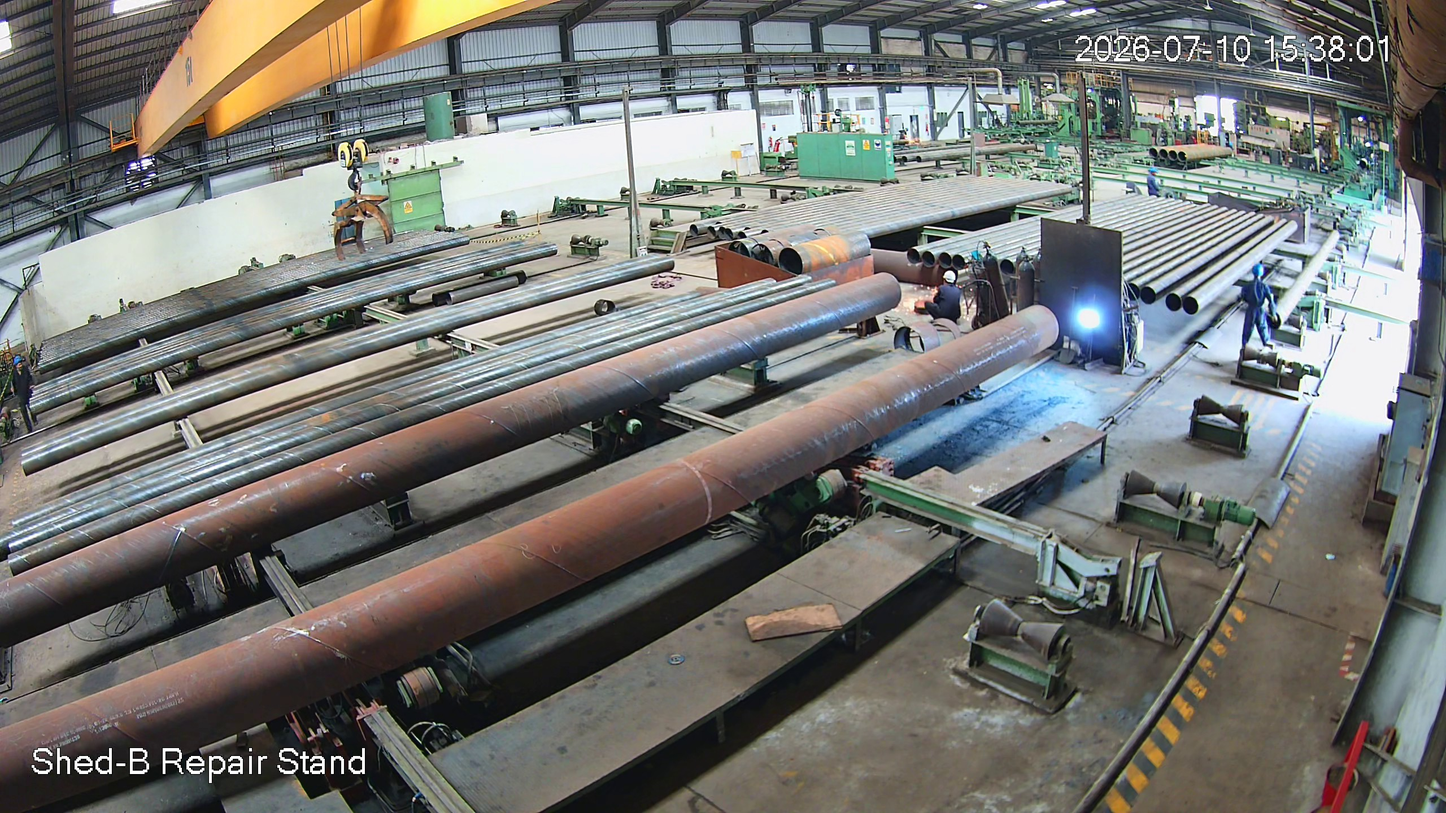Helmet: (1250, 262, 1268, 287), (939, 262, 955, 285)
Person: (1246, 265, 1275, 350), (923, 266, 963, 323)
